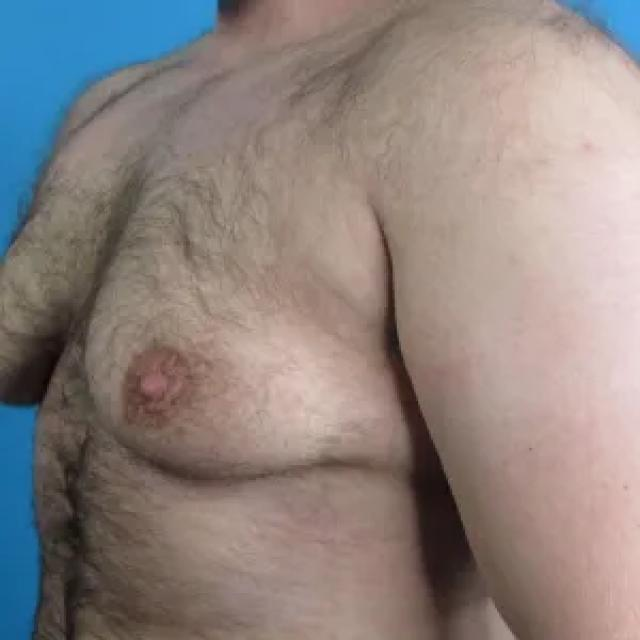Seno ileso: (79, 164, 428, 504), (2, 164, 76, 428)
